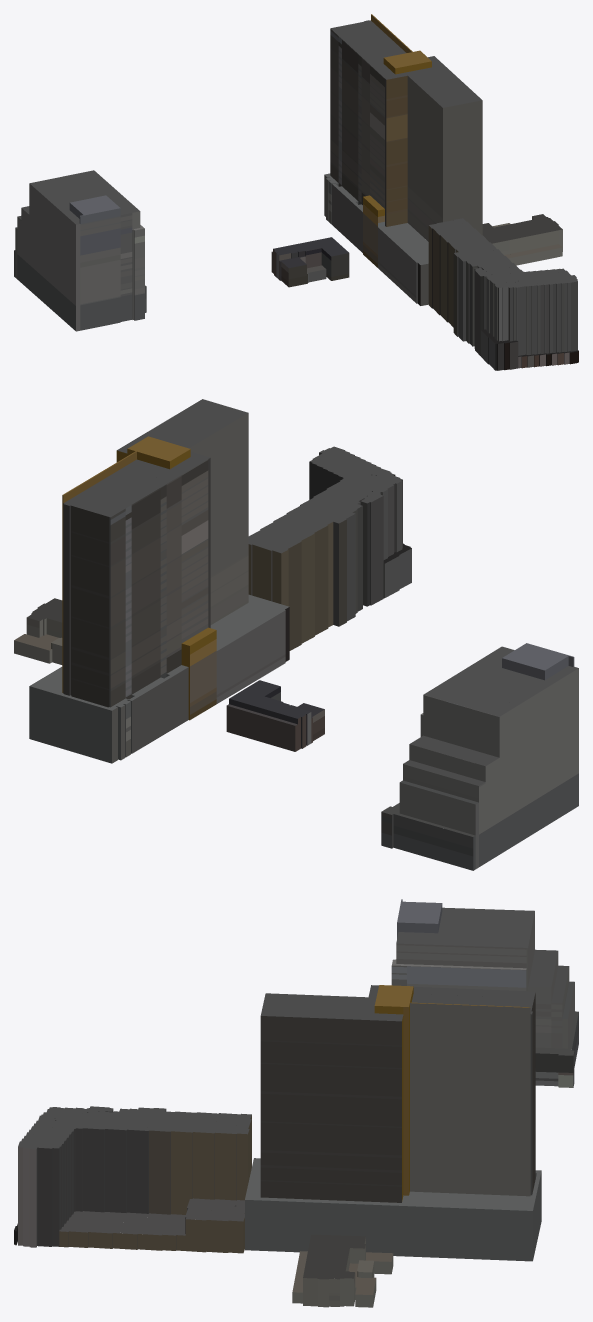
The model's file is t_-2_1.far.glb.
3 renders of one model, top to bottom at view 1: azimuth 30°, elevation 25°; view 2: azimuth 150°, elevation 25°; view 3: azimuth 270°, elevation 25°, orthographic. The views are drawn at different scales.
Visible parts, largest first — view 1: opaque; view 2: opaque; view 3: opaque.
Part boxes in pixels (x1,y1,x2,y2): opaque: (14, 14, 578, 370); opaque: (14, 399, 578, 870); opaque: (14, 899, 578, 1307).
Bounding box in the file's own units: 232 × 95.7 × 205.
Materials: 1 (1 with a texture image).
